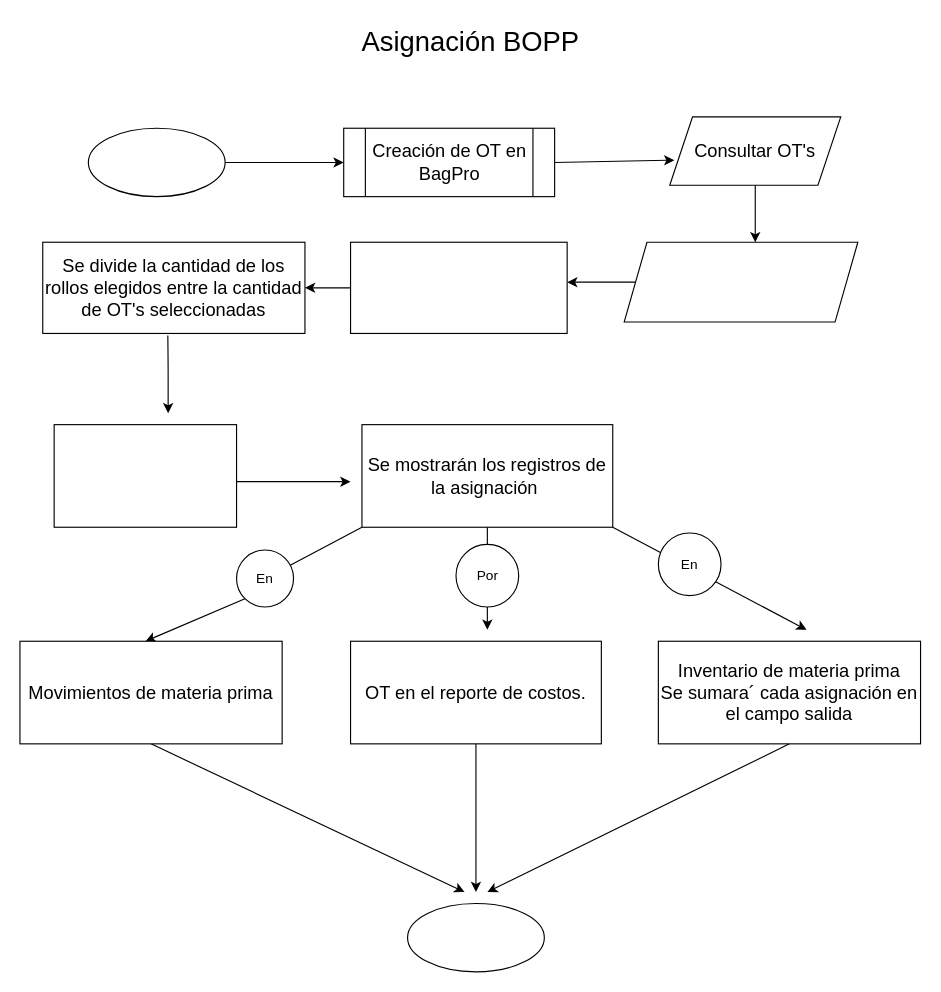
The diagram is 941 pixels wide and 992 high, and some of its shapes have lost their labels. Here are the shapes that lost their labels. From the top down, the box of each, then its label:
(87, 127, 225, 197): Inicio
(349, 241, 567, 333): Confirmar asignación
(623, 241, 858, 322): Consultar y seleccionar rollos a asignar
(53, 424, 237, 527): Se descuenta del inventario la cantidad asignada en cada rollo
(406, 902, 544, 972): Fin
